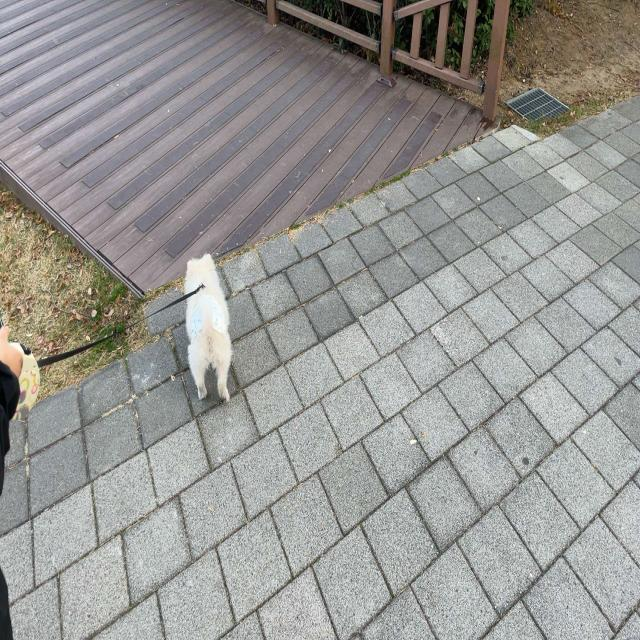Dog: (184, 252, 232, 406)
